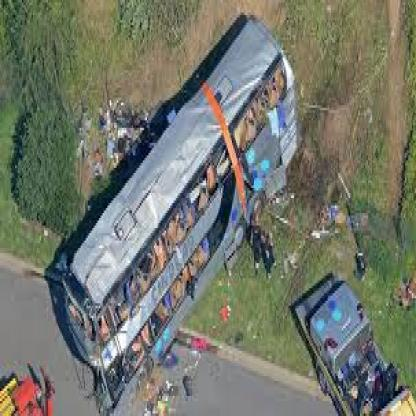accident: (59, 19, 303, 416)
